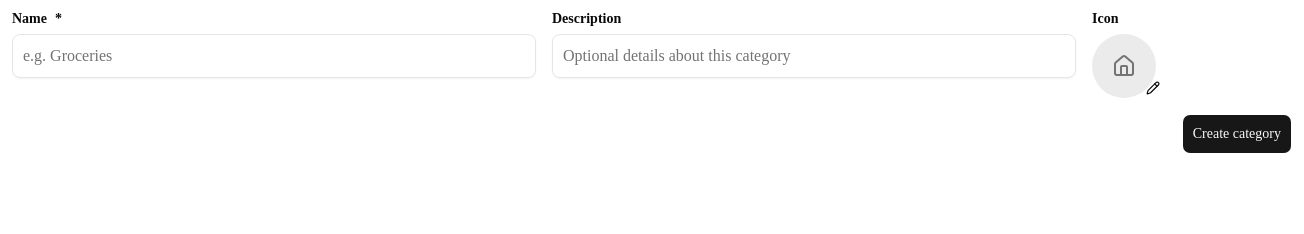
CategoryForm › leaves the cached option lists alone when the save fails
The image size is (1304, 234).
Type "Groceries" into the field labelled "Name *" at {"x": 274, "y": 56}, box [12,34,536,78]
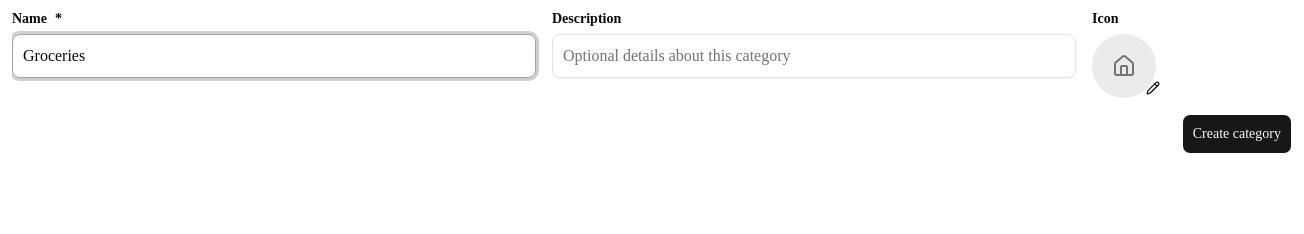
Click the button "Create category" at {"x": 1237, "y": 134}, box [1182,114,1292,154]
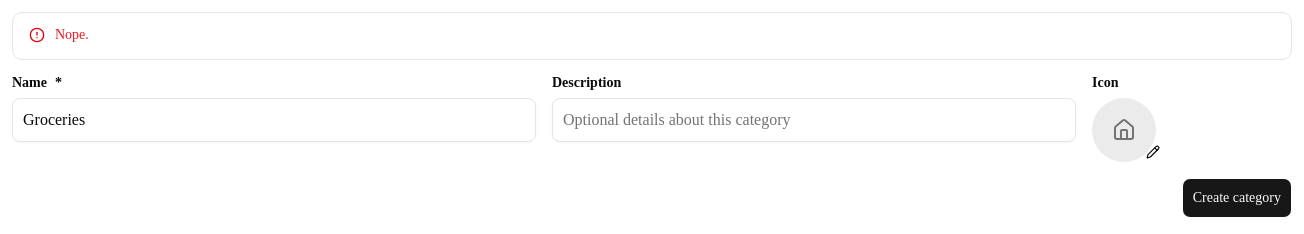
Expected: the text "Nope." is shown, [55,27,89,42]
